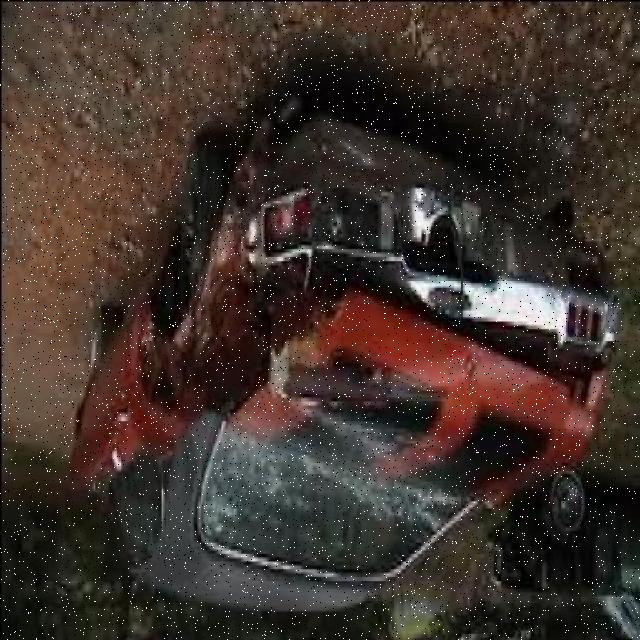damage: (134, 93, 614, 421)
